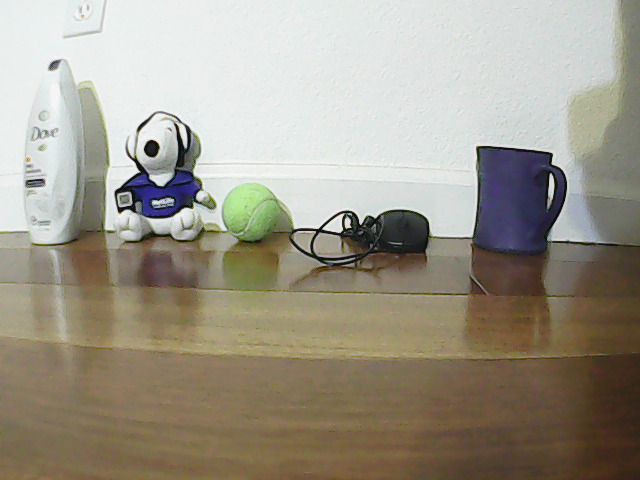ball: (221, 181, 284, 241)
mouse: (372, 204, 434, 255)
mug: (476, 134, 568, 257)
snoopy: (123, 113, 216, 237)
soap: (26, 55, 82, 239)
